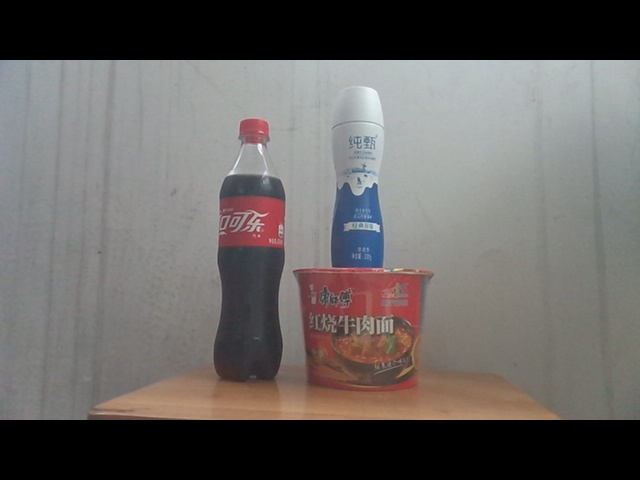cola: (213, 119, 286, 383)
kangshifu: (292, 268, 434, 394)
yogurt: (331, 85, 385, 268)
